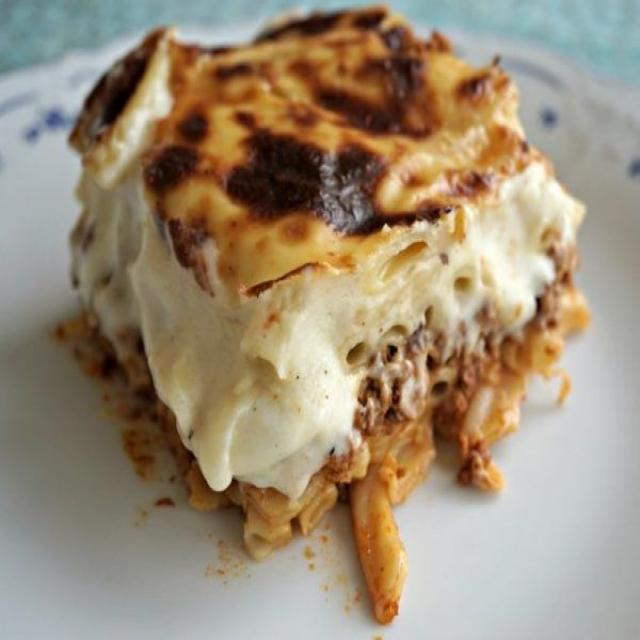Bechamel: (14, 14, 621, 640)
